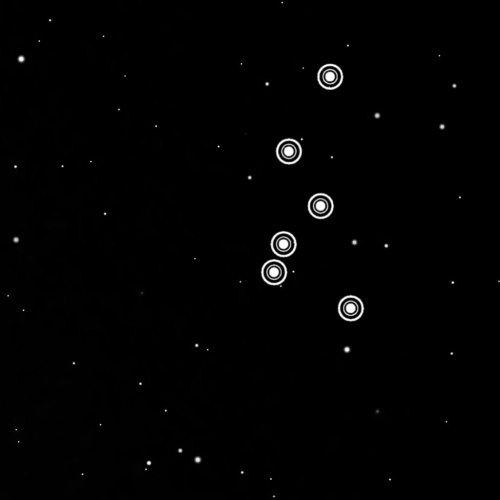cassiopeia: (251, 57, 367, 328)
